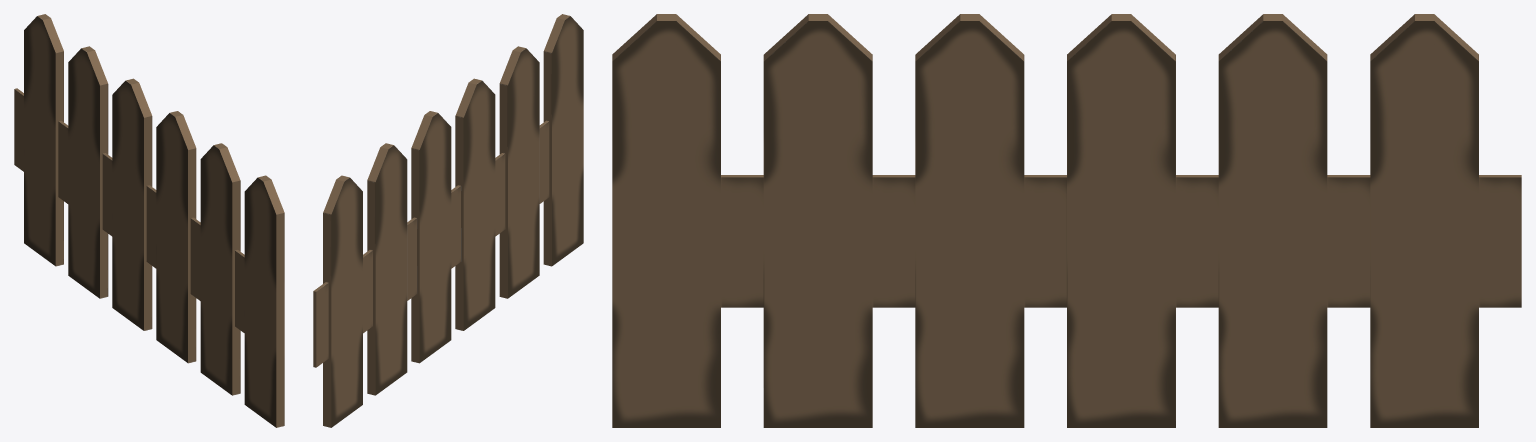
The model's file is Cerca.glb.
The picture shows the model from 3 angles, left to right: view 1: azimuth 30°, elevation 25°; view 2: azimuth 150°, elevation 25°; view 3: azimuth 270°, elevation 25°; orthographic projection. The views are drawn at different scales.
Parts seen in each view (by area): view 1: Plane; view 2: Plane; view 3: Plane.
Boxes of the visible parts, left/top/right/bottom form: Plane: left=14, top=14, right=284, bottom=427; Plane: left=313, top=14, right=583, bottom=427; Plane: left=612, top=14, right=1521, bottom=427.
Size of what is drawn, in the model's own units: 0.3012 by 8.25 by 16.71.
Materials: 1 (1 with a texture image).
